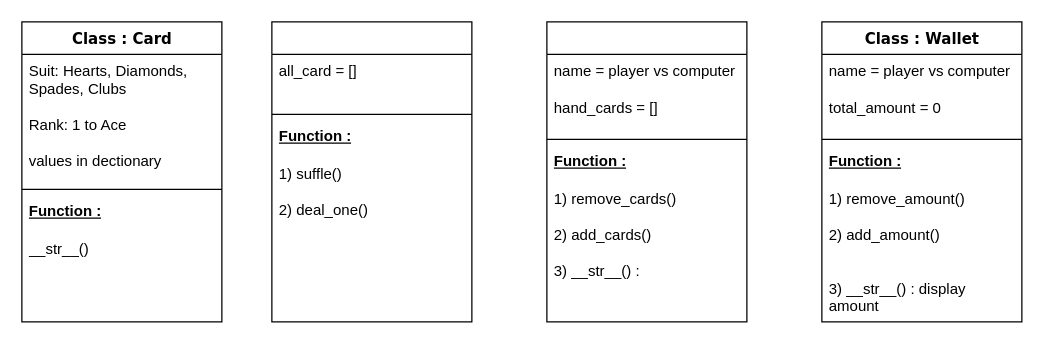
Image size: 1044x348. Some labels were removed from this diagram. The box of each missing label's shape, as (x1, y1, x2, y2) in pixels:
Class : Deck: (271, 21, 472, 322)
Class : Player: (546, 21, 747, 322)
